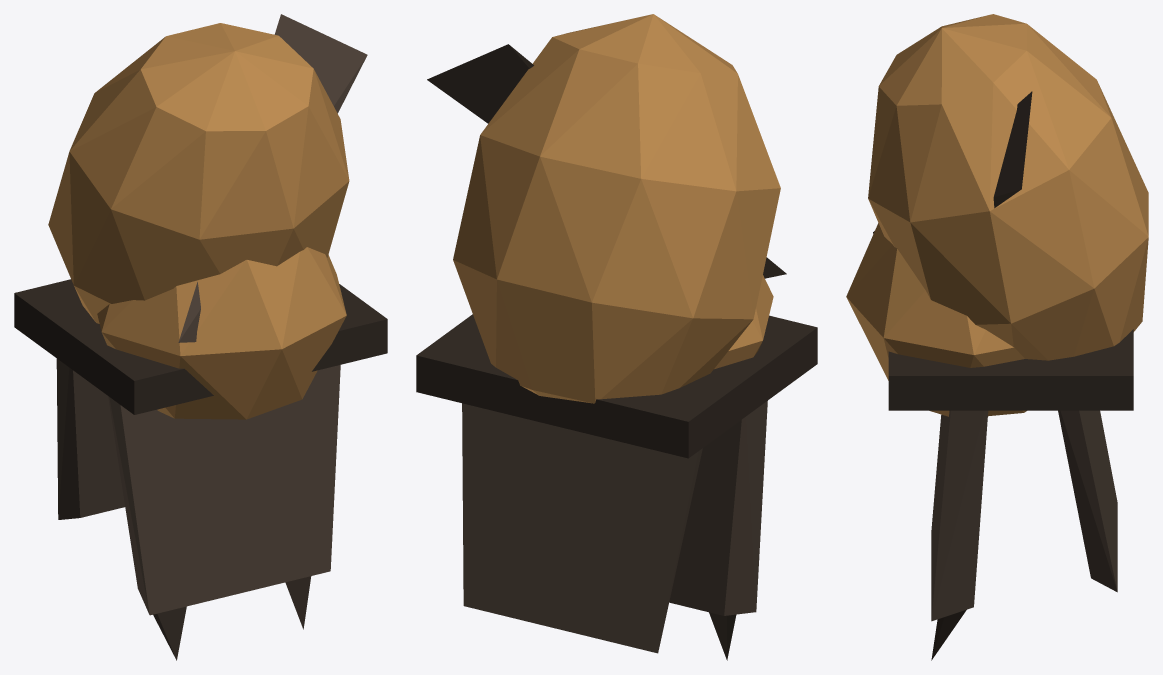
File: goblin_2_body.glb
3 renders of one model, left to right at view 1: azimuth 30°, elevation 25°; view 2: azimuth 150°, elevation 25°; view 3: azimuth 270°, elevation 25°, orthographic. The views are drawn at different scales.
Parts seen in each view (by area): view 1: goblin_2_body; view 2: goblin_2_body; view 3: goblin_2_body.
Part boxes in pixels (x1,y1,x2,y2): goblin_2_body: (14,14,387,660); goblin_2_body: (416,14,817,660); goblin_2_body: (846,14,1148,660).
Bounding box in the file's own units: 0.3305 × 0.6235 × 0.2843.
